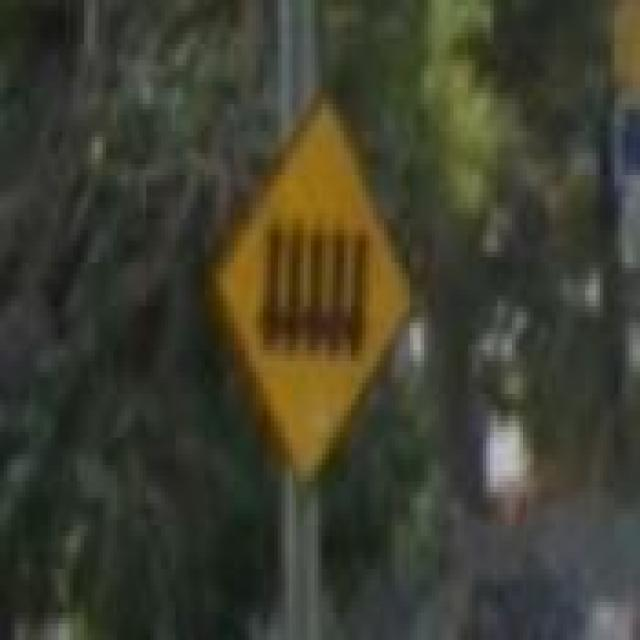traffic sign: (216, 115, 414, 470)
